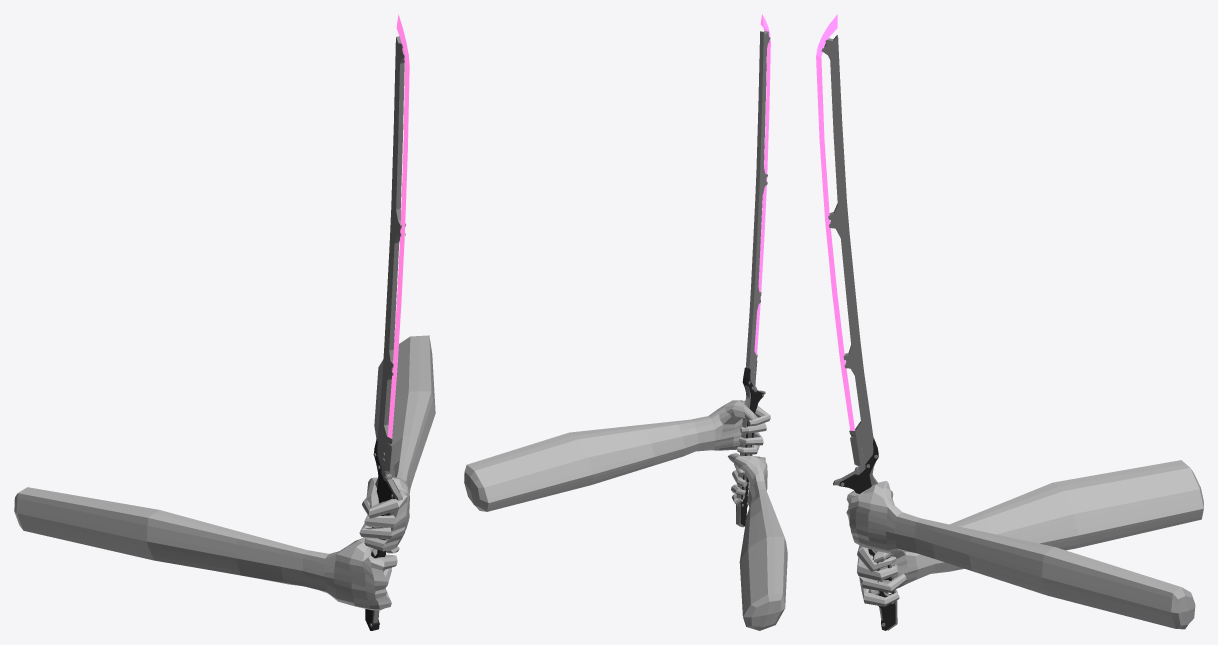
3 renders of one model, left to right at view 1: azimuth 30°, elevation 25°; view 2: azimuth 150°, elevation 25°; view 3: azimuth 270°, elevation 25°, orthographic. The views are drawn at different scales.
Parts seen in each view (by area): view 1: Right Hand Model.001; view 2: Right Hand Model.001; view 3: Right Hand Model.001.
Part boxes in pixels (x1,y1,x2,y2): Right Hand Model.001: (14, 14, 435, 630); Right Hand Model.001: (464, 14, 787, 630); Right Hand Model.001: (816, 14, 1203, 630).
Bounding box in the file's own units: 2.5 × 3.68 × 2.1.
